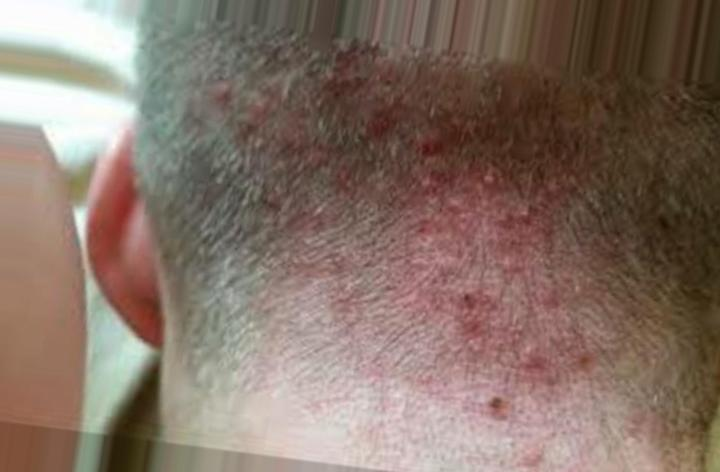Folliculitis: (300, 109, 599, 434)
